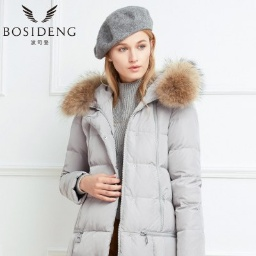face: (97, 27, 161, 84)
